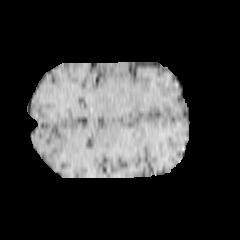glioma: (82, 76, 164, 129)
